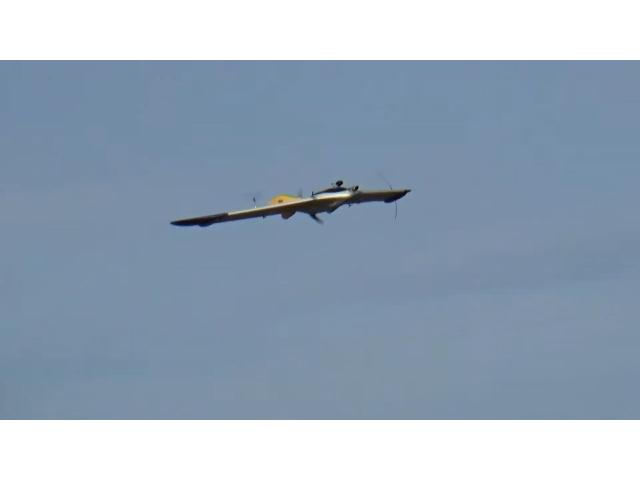Anti-Drone: (170, 179, 410, 229)
